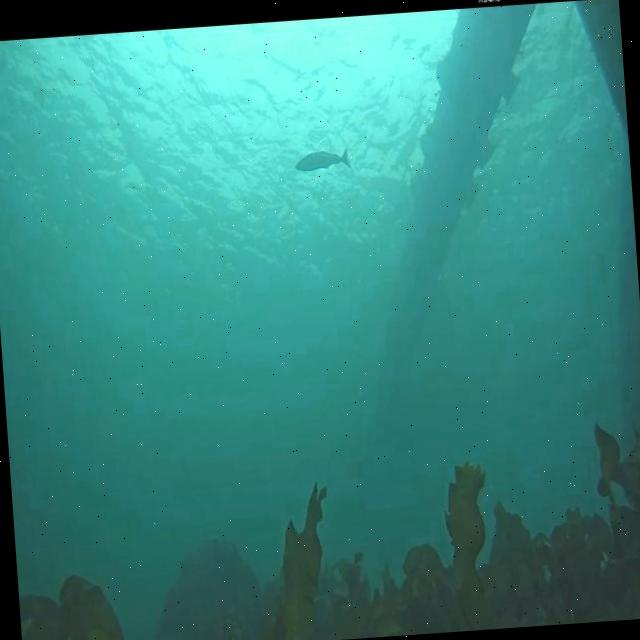fish: (292, 144, 352, 177)
